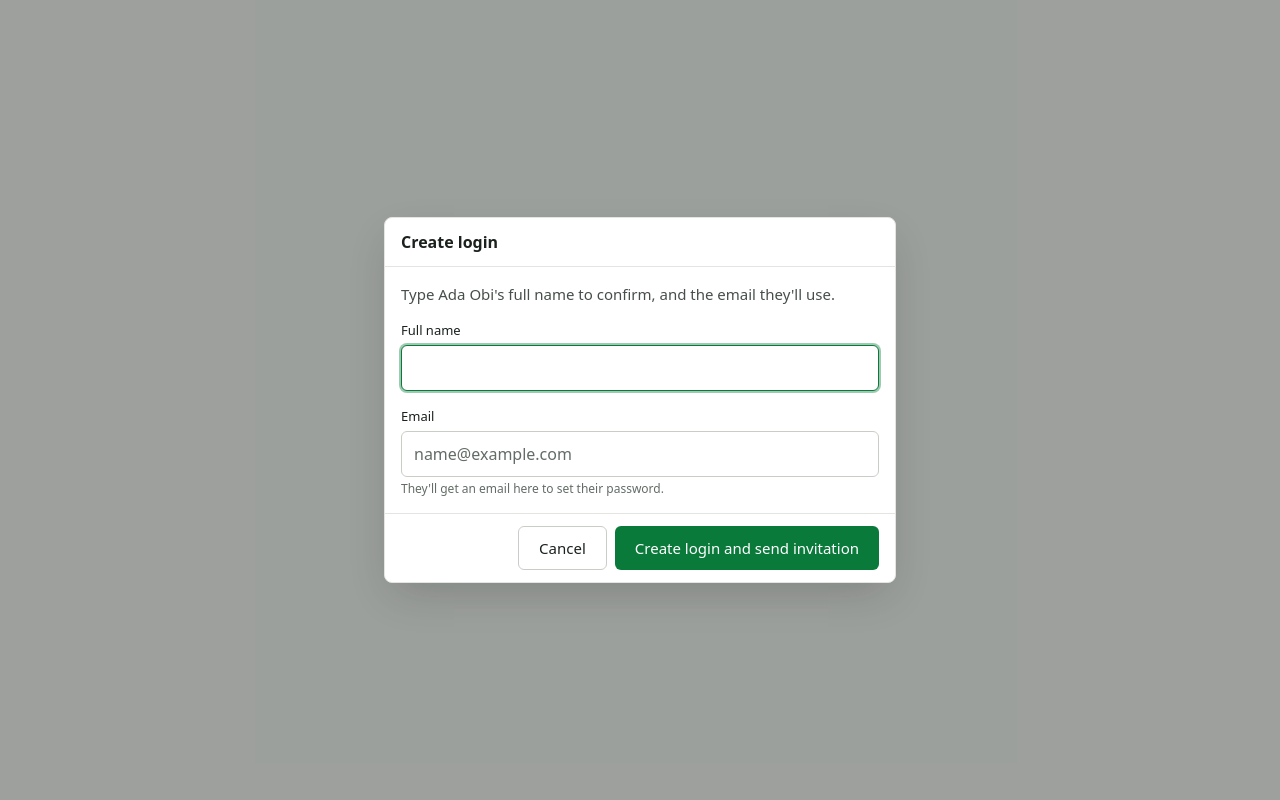
Test: CreateLoginDialog › shows the server's refusal and stays open
In the field labelled "Full name": x=640, y=368 [401,345,879,391], type "Ada Obi"
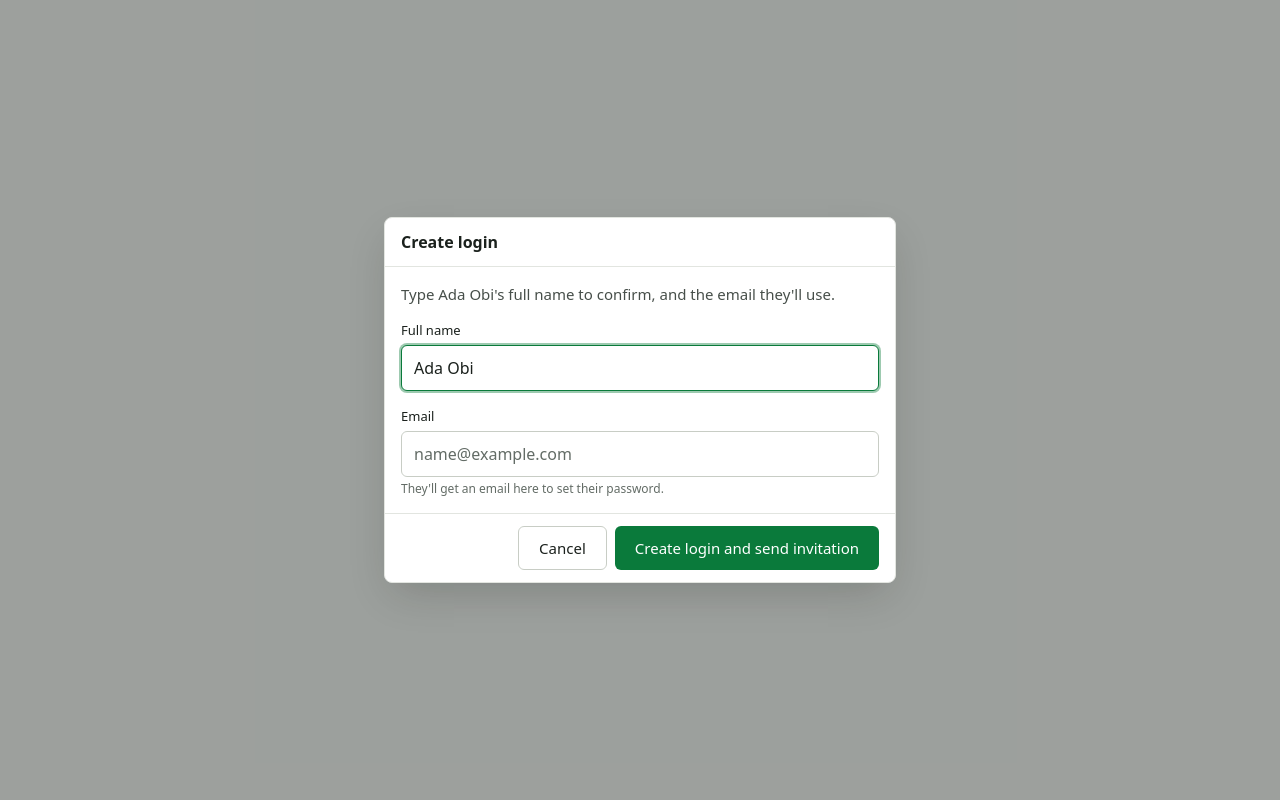
In the field labelled "Email": x=640, y=454 [401,431,879,477], type "ada@example.com"
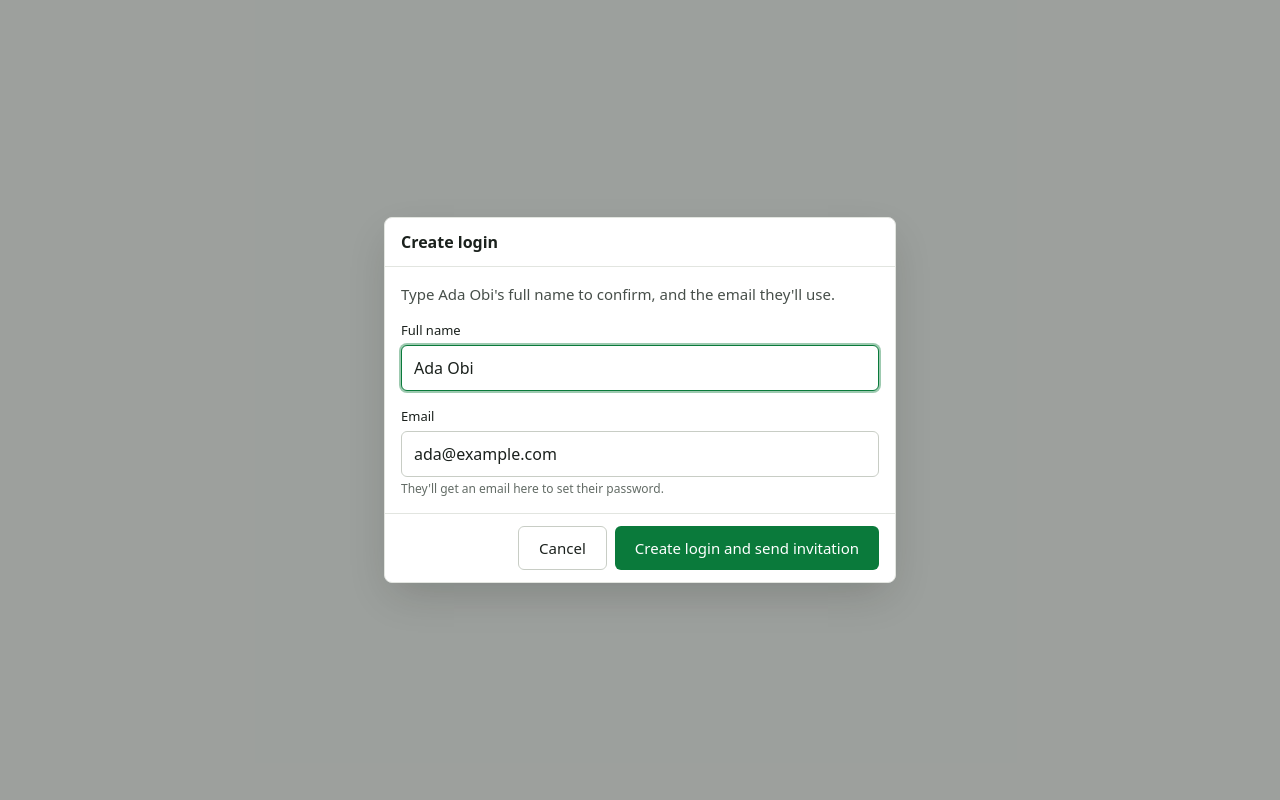
Click the button "Create login and send invitation": x=747, y=548 [615,526,879,570]
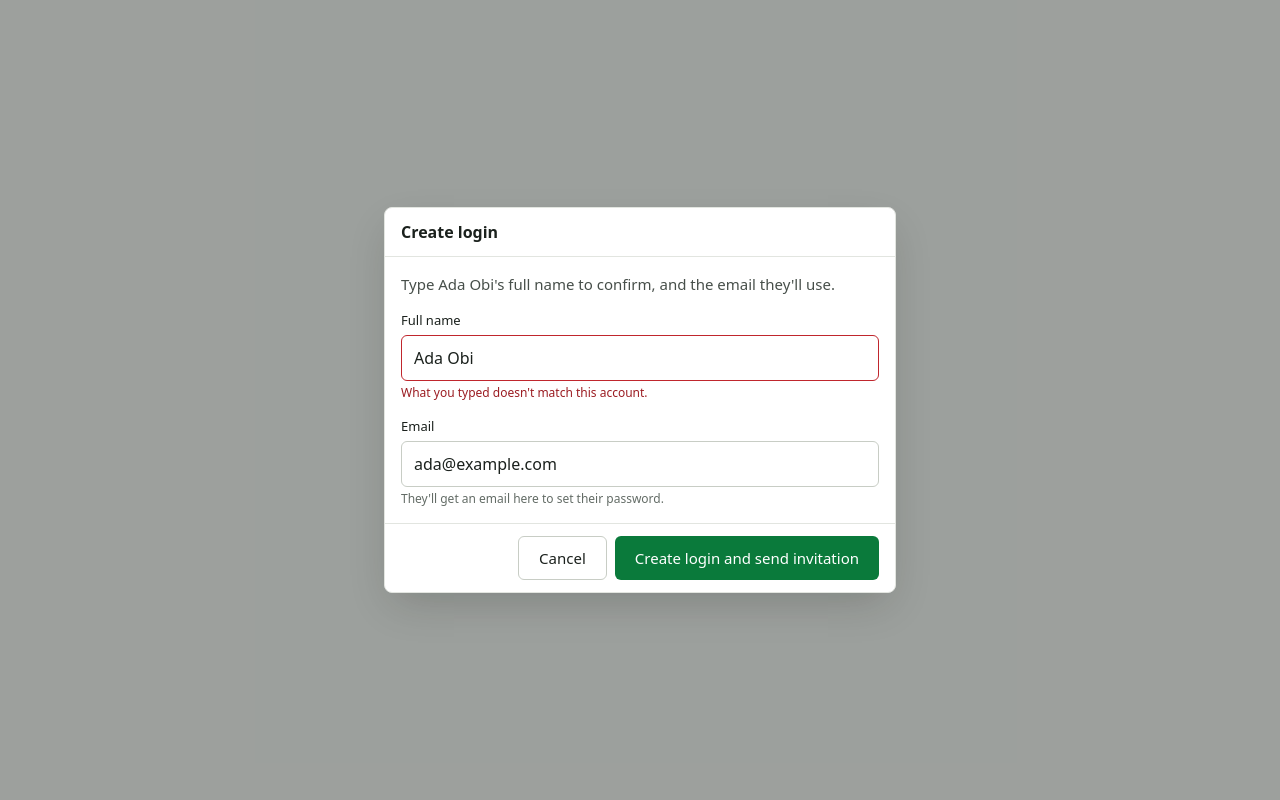
Check: the text "What you typed doesn't match this account." is shown, box [401,384,648,401]
